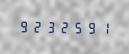five: (69, 20, 81, 34)
nine: (17, 19, 29, 33), (82, 20, 94, 34)
one: (95, 20, 107, 34)
three: (43, 19, 55, 33)
two: (56, 19, 68, 34), (30, 19, 42, 33)
